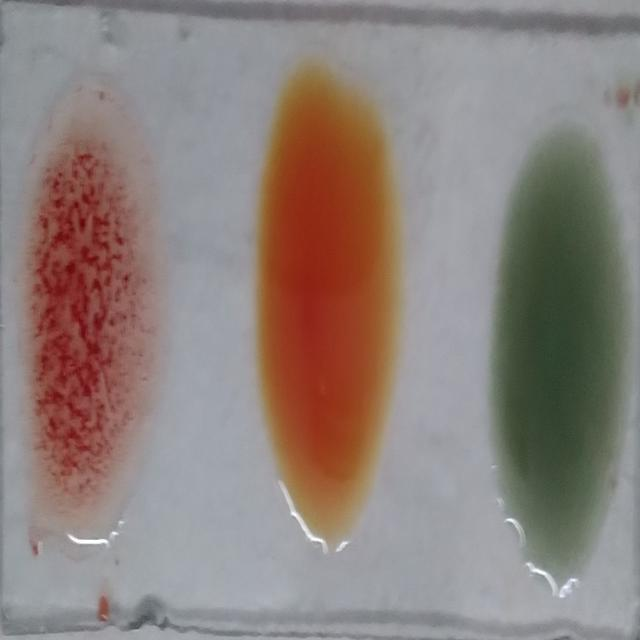D: (31, 107, 148, 524)
